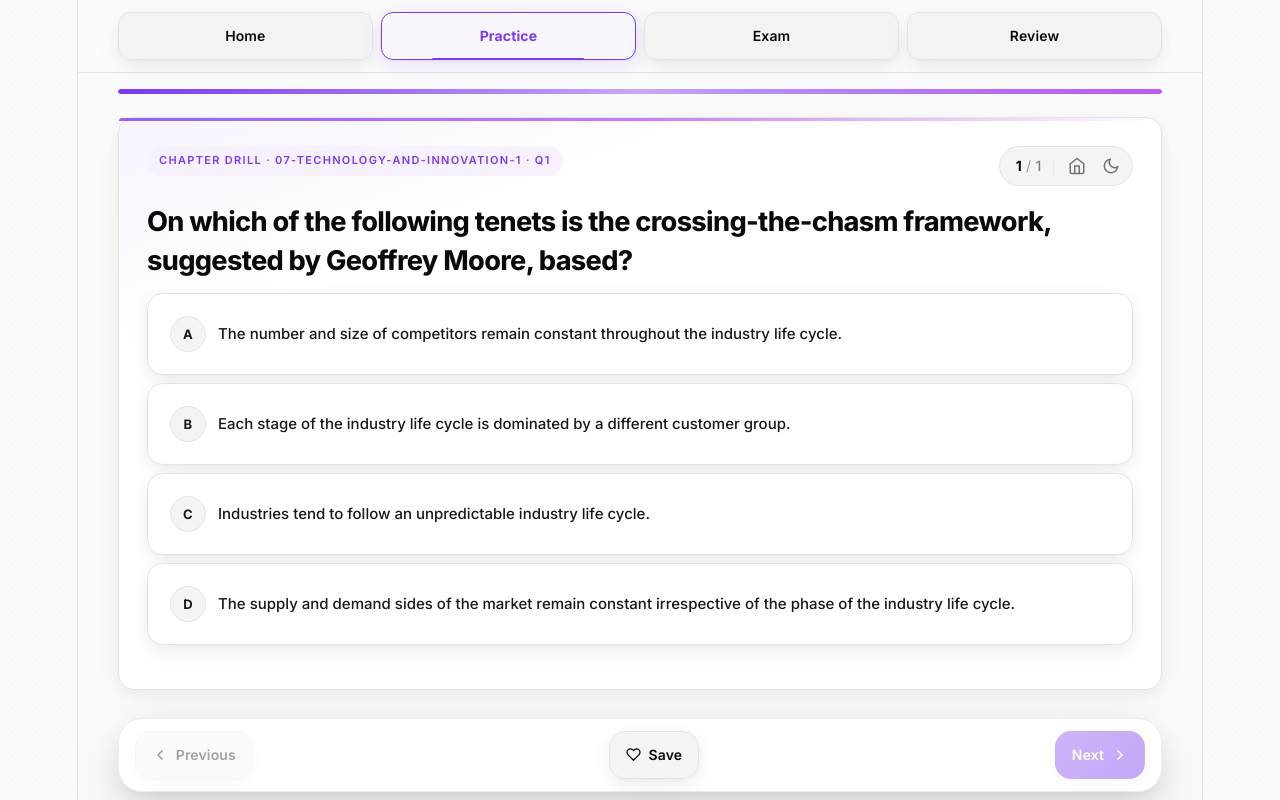
app shell routes › shows authored explanations after a wrong answer in technology and innovation part 1 practice
Expected: the heading named "On which of the following tenets is the crossing-the-chasm framework, suggested by Geoffrey Moore, based?" is shown, left=147, top=202, right=1133, bottom=281
Click the button with aria-label "A: The number and size of competitors remain constant throug" at [640, 334], box left=147, top=293, right=1133, bottom=375
(page scrolled)
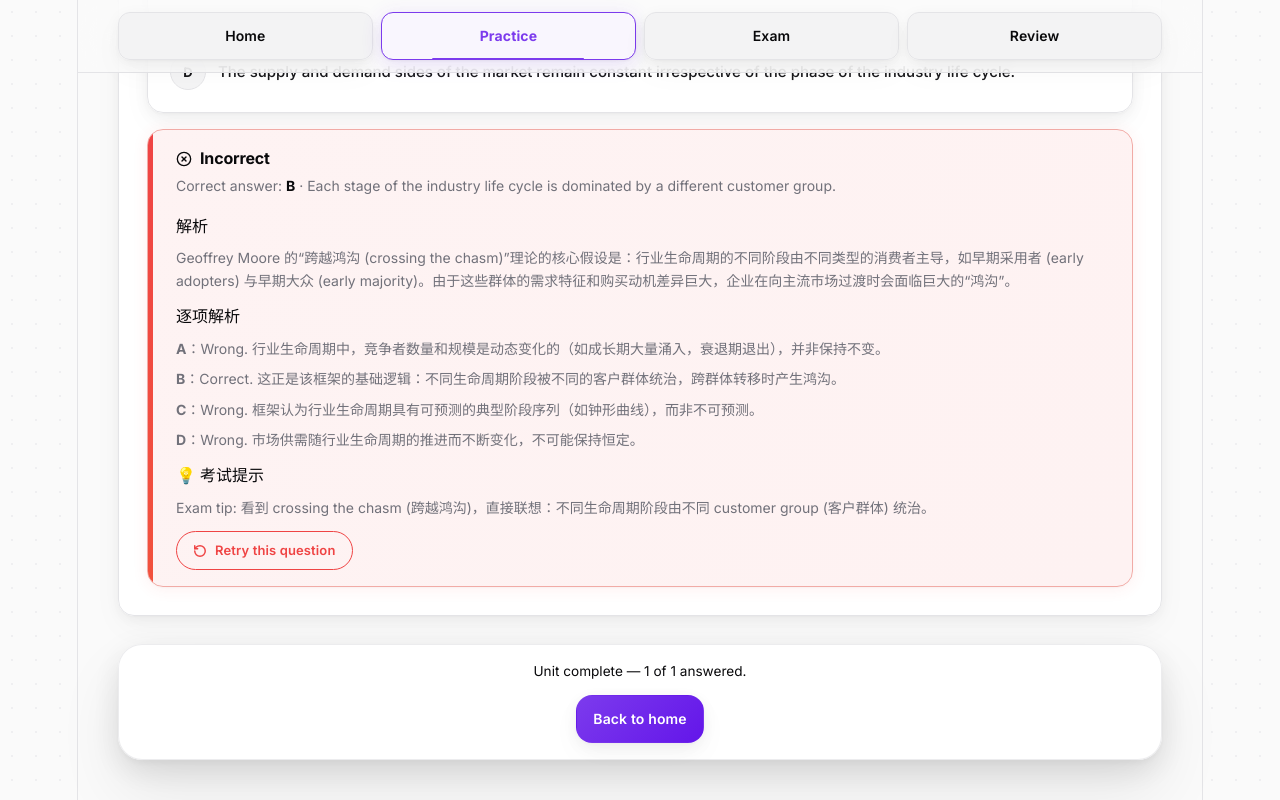
Now the text "Incorrect" is shown, box left=176, top=148, right=270, bottom=168
Now the text "Geoffrey Moore 的“跨越鸿沟 (crossing the chasm)”理论的核心假设是：行业生命周期的不同阶段由不同类型的消费者主导，如早期采用者 (early adopters) 与早期大众 (early majority" is shown, box left=176, top=250, right=1084, bottom=289
Now the text "Exam tip: 看到 crossing the chasm (跨越鸿沟)，直接联想：不同生命周期阶段由不同 customer group (客户群体) 统治。" is shown, box left=176, top=499, right=935, bottom=516
